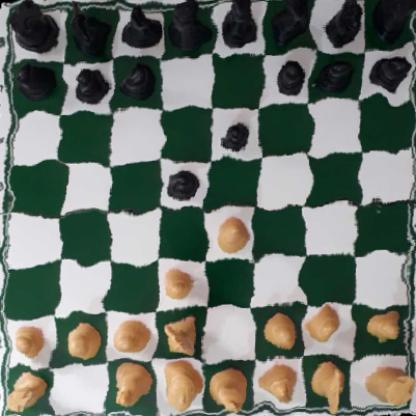black-bishop: (119, 0, 163, 52), (273, 0, 315, 49)
black-king: (218, 0, 260, 52)
black-knight: (68, 0, 109, 60), (326, 0, 365, 46)
black-pawn: (70, 64, 109, 106), (117, 59, 154, 103), (368, 52, 408, 92), (15, 63, 58, 100), (217, 115, 253, 155), (317, 56, 353, 93), (274, 58, 307, 98), (164, 167, 196, 202)
black-queen: (164, 0, 211, 53)
black-rook: (10, 0, 62, 56), (371, 0, 416, 38)
white-bishop: (111, 362, 152, 411), (259, 361, 299, 404)
white-king: (211, 366, 246, 416)
white-knight: (309, 358, 346, 416), (159, 313, 203, 361)
white-pawn: (160, 262, 201, 304), (6, 323, 49, 362), (260, 311, 298, 352), (111, 314, 149, 354), (61, 322, 100, 359), (364, 308, 406, 342), (211, 218, 247, 255), (309, 305, 340, 342)
white-queen: (155, 358, 205, 411)
white-rook: (360, 362, 416, 408), (4, 372, 53, 414)
